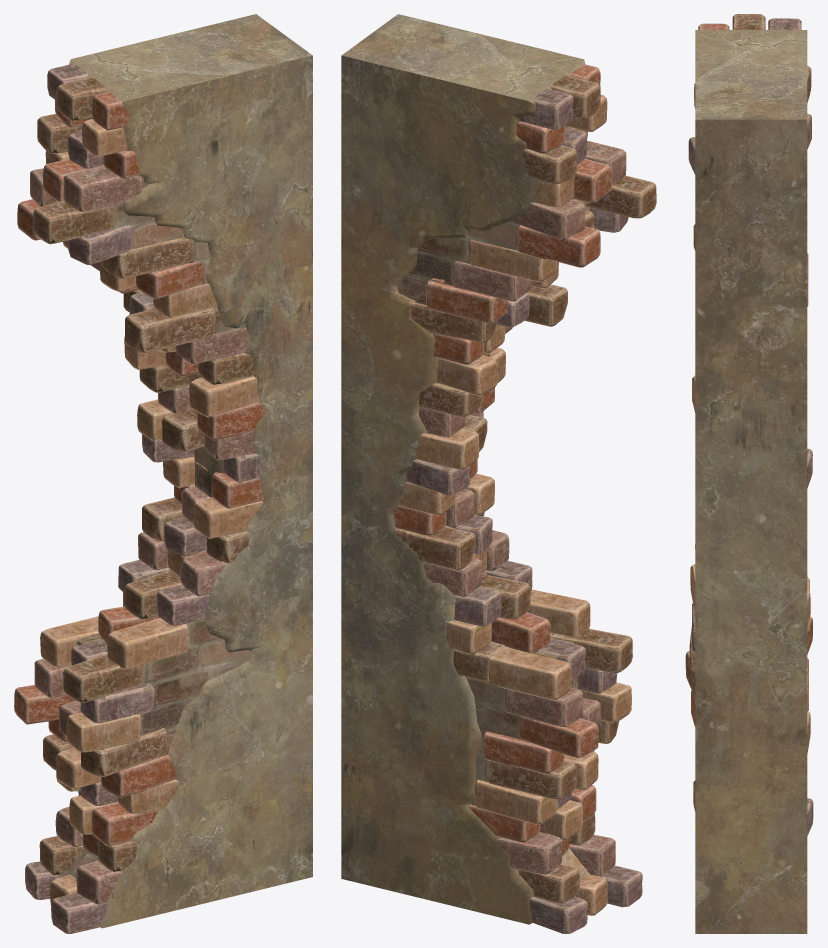
The picture shows the model from 3 angles, left to right: view 1: azimuth 30°, elevation 25°; view 2: azimuth 150°, elevation 25°; view 3: azimuth 270°, elevation 25°; orthographic projection.
Parts seen in each view (by area): view 1: SM_Human_Ruins_Wall_Dmg_02_LOD0; view 2: SM_Human_Ruins_Wall_Dmg_02_LOD0; view 3: SM_Human_Ruins_Wall_Dmg_02_LOD0.
Part boxes in pixels (left/top/right/bottom): SM_Human_Ruins_Wall_Dmg_02_LOD0: left=14, top=14, right=312, bottom=933; SM_Human_Ruins_Wall_Dmg_02_LOD0: left=341, top=14, right=656, bottom=933; SM_Human_Ruins_Wall_Dmg_02_LOD0: left=685, top=14, right=813, bottom=933.
Size of the model in its own units: 1.33 by 4 by 0.5699.
3 materials, 3 textured.
